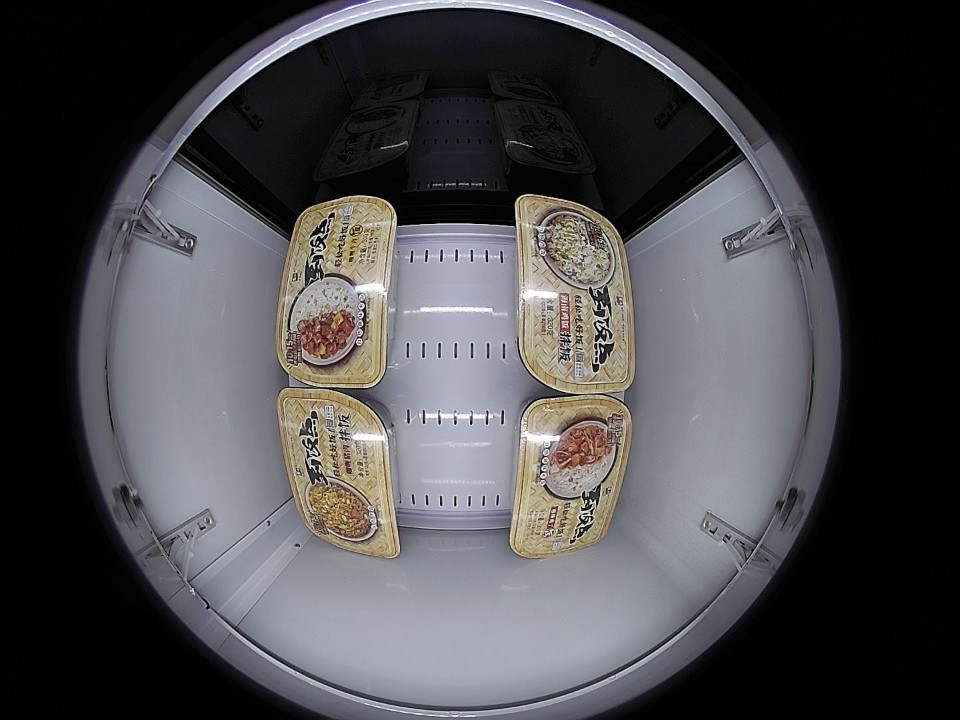daofandian1: (515, 193, 635, 396)
daofandian2: (276, 194, 398, 390)
daofandian3: (278, 390, 401, 561)
daofandian4: (510, 394, 632, 560)
